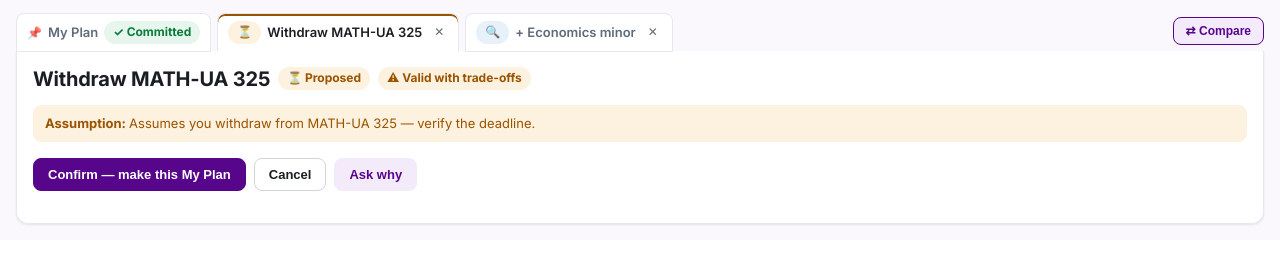
Scenario: ScheduleWorkspace — compare toggle › Compare mode renders CompareView with two columns (H3 implemented)
This screenshot has width=1280, height=256.
Click the button "⇄ Compare": x=1218, y=31 [1173,17,1264,45]
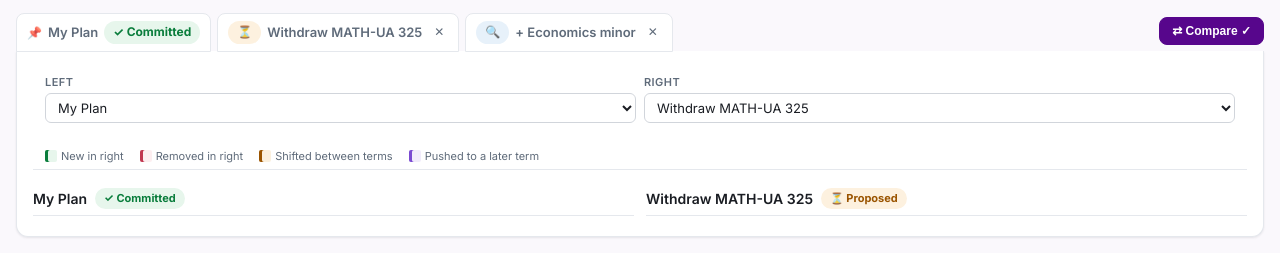
Result: the element named "Compare view" is shown at [33,67,1247,220]
Result: the element named "Diff legend" is shown at [33,143,1247,170]
